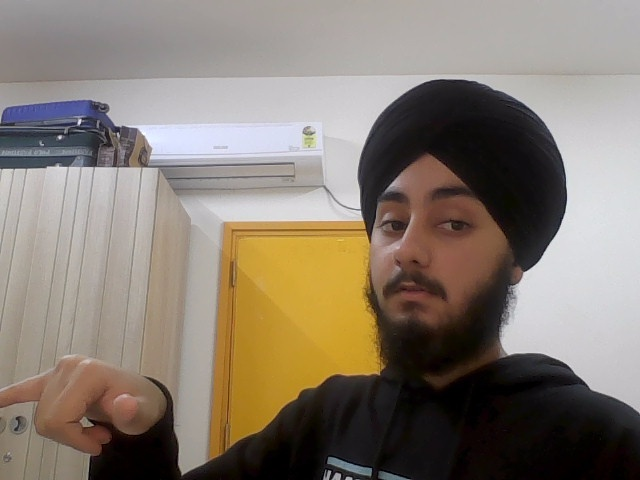Same: (1, 350, 172, 458)
